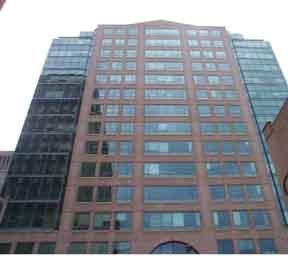building: (0, 19, 288, 253)
